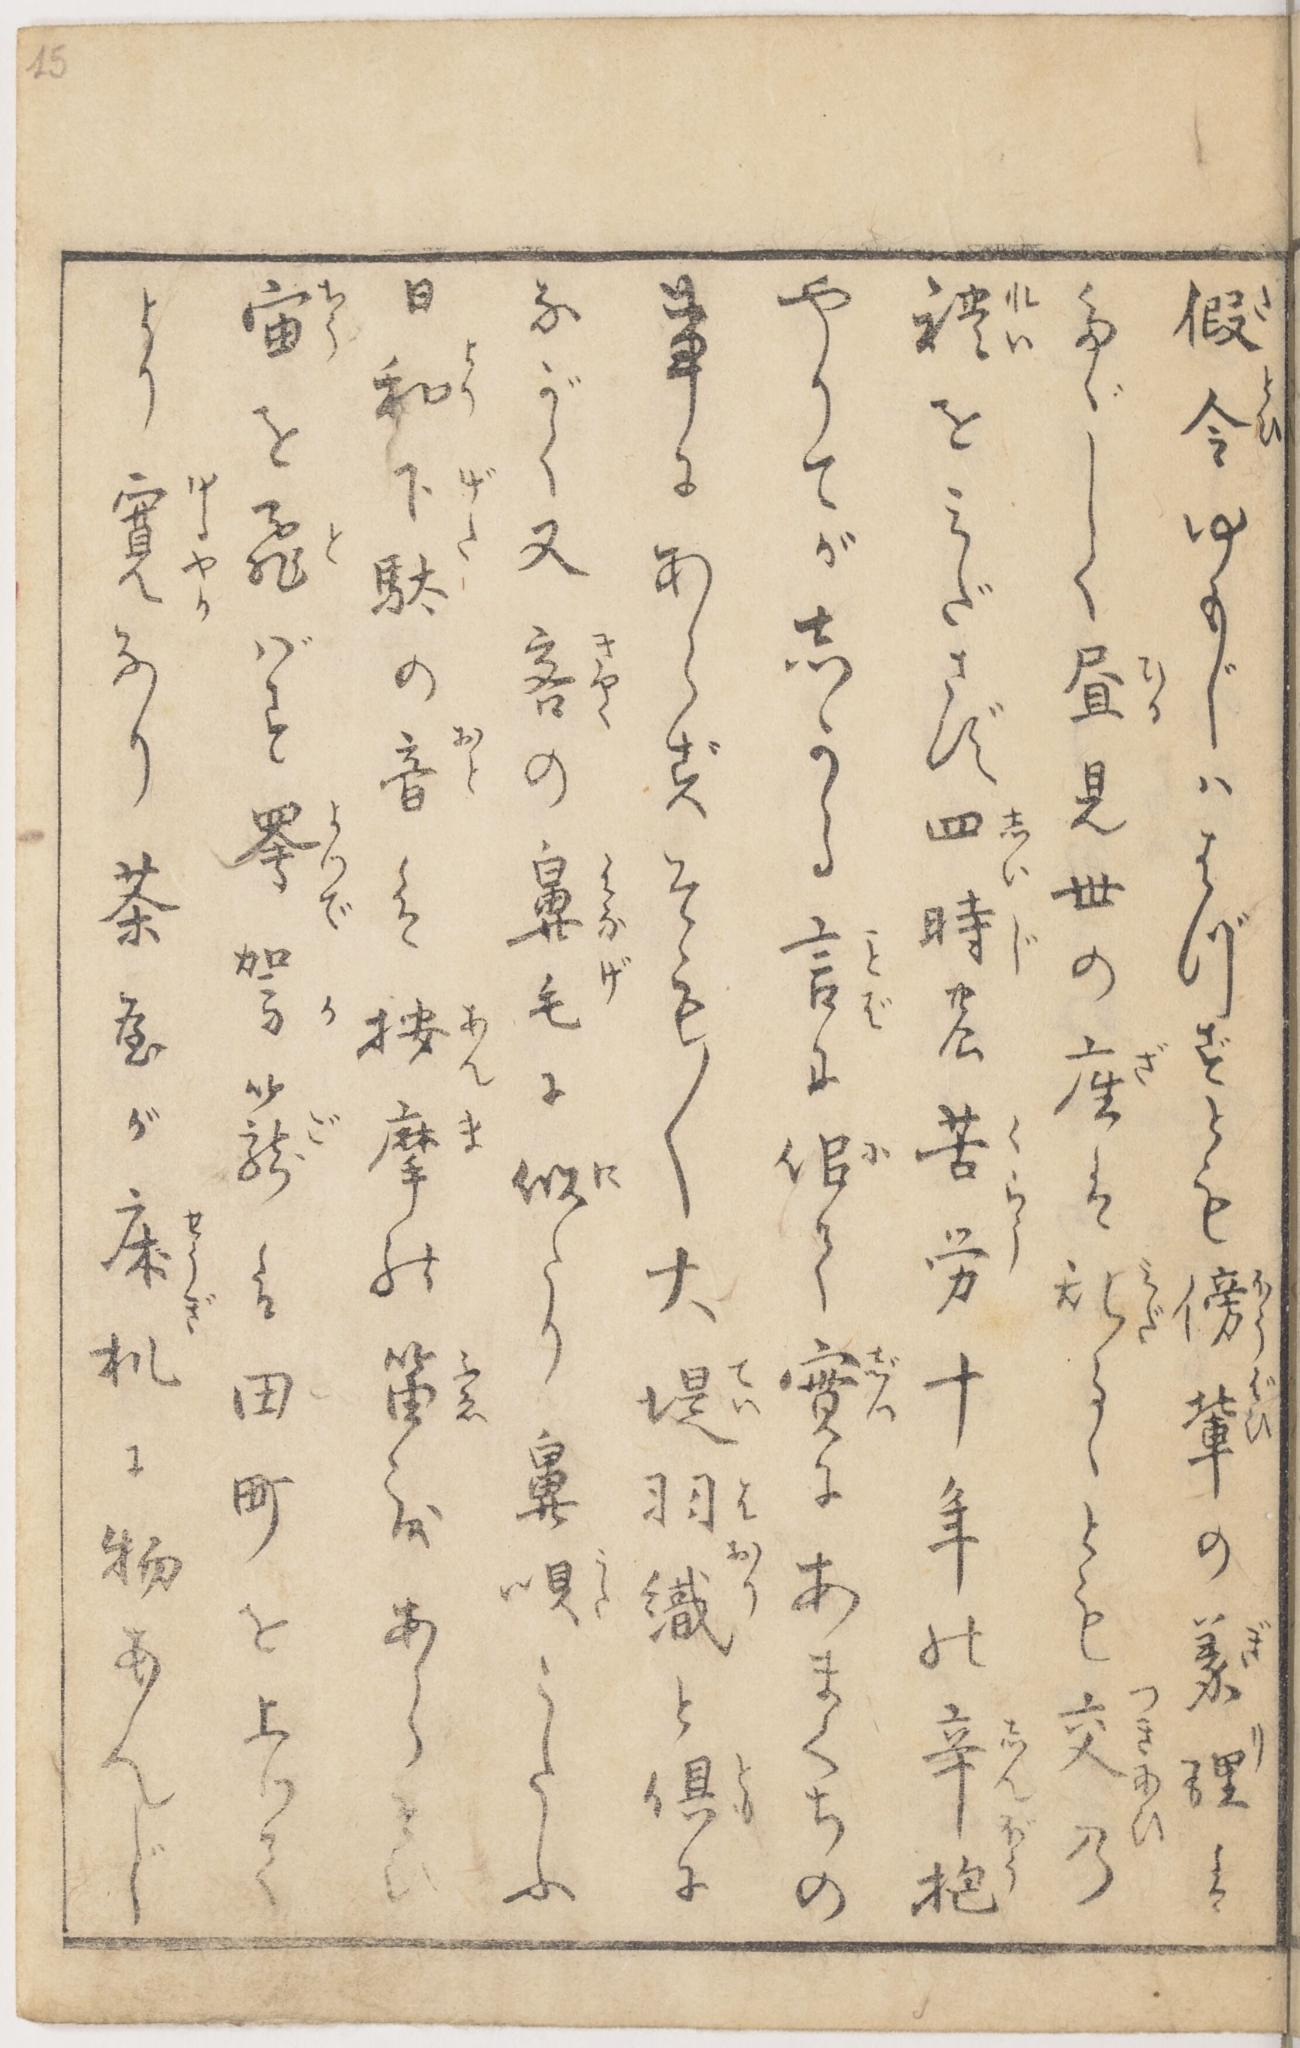MainZone-Character: (99, 466, 234, 627), (1061, 1681, 1173, 1849), (630, 1533, 772, 1658), (233, 796, 369, 925), (893, 1812, 1048, 1921), (918, 1176, 1034, 1318), (507, 831, 639, 952), (775, 914, 897, 1034), (1175, 1358, 1281, 1494), (512, 614, 631, 730), (349, 999, 501, 1090), (224, 1109, 352, 1217), (625, 1352, 764, 1451), (916, 1706, 1045, 1812), (901, 269, 1036, 369), (915, 888, 1049, 988), (90, 1299, 221, 1400), (97, 1188, 215, 1299), (1167, 364, 1291, 469), (369, 1331, 494, 1434), (366, 518, 491, 618), (1051, 1031, 1172, 1131), (373, 719, 494, 818), (366, 336, 488, 433), (1176, 1606, 1284, 1717), (240, 493, 346, 600), (237, 273, 360, 366), (781, 1339, 906, 1429), (506, 1148, 634, 1234), (1051, 1257, 1170, 1349), (494, 1545, 621, 1629), (372, 1099, 493, 1185), (639, 1746, 770, 1826), (1057, 639, 1169, 731), (1179, 1721, 1282, 1818), (630, 1457, 763, 1532), (925, 800, 1037, 885), (1176, 1261, 1276, 1354), (1172, 273, 1282, 357), (516, 955, 637, 1031), (918, 1108, 1025, 1181), (772, 1134, 896, 1196), (388, 455, 507, 511), (246, 985, 349, 1034)
MainZone-Ruby: (179, 467, 222, 621), (1131, 1690, 1167, 1849), (321, 799, 357, 925), (582, 621, 622, 727), (722, 1536, 773, 1618), (858, 924, 896, 1034), (994, 1714, 1039, 1802), (863, 1342, 909, 1427), (997, 1818, 1045, 1900), (1000, 273, 1042, 363), (1242, 1258, 1281, 1349), (448, 721, 493, 799), (458, 1000, 497, 1088), (1130, 1254, 1169, 1342), (448, 1345, 488, 1427), (1000, 909, 1046, 979), (1242, 1358, 1281, 1442), (730, 1749, 770, 1829), (724, 1355, 766, 1427), (597, 840, 627, 939), (181, 1200, 212, 1293), (999, 1187, 1031, 1273), (997, 806, 1034, 882), (1252, 364, 1285, 448), (588, 1546, 619, 1624), (457, 337, 487, 416), (316, 279, 349, 346), (1127, 1040, 1175, 1082), (594, 952, 630, 1008), (457, 463, 501, 506), (176, 1290, 218, 1334), (1139, 649, 1163, 725), (1240, 1615, 1276, 1666), (301, 1111, 348, 1149), (449, 515, 487, 563), (730, 1467, 758, 1524), (590, 1157, 628, 1197), (319, 512, 345, 572), (455, 1103, 485, 1154), (315, 988, 346, 1027), (1254, 278, 1279, 325), (1245, 1718, 1269, 1766), (863, 1139, 899, 1170), (1004, 1112, 1025, 1155)
